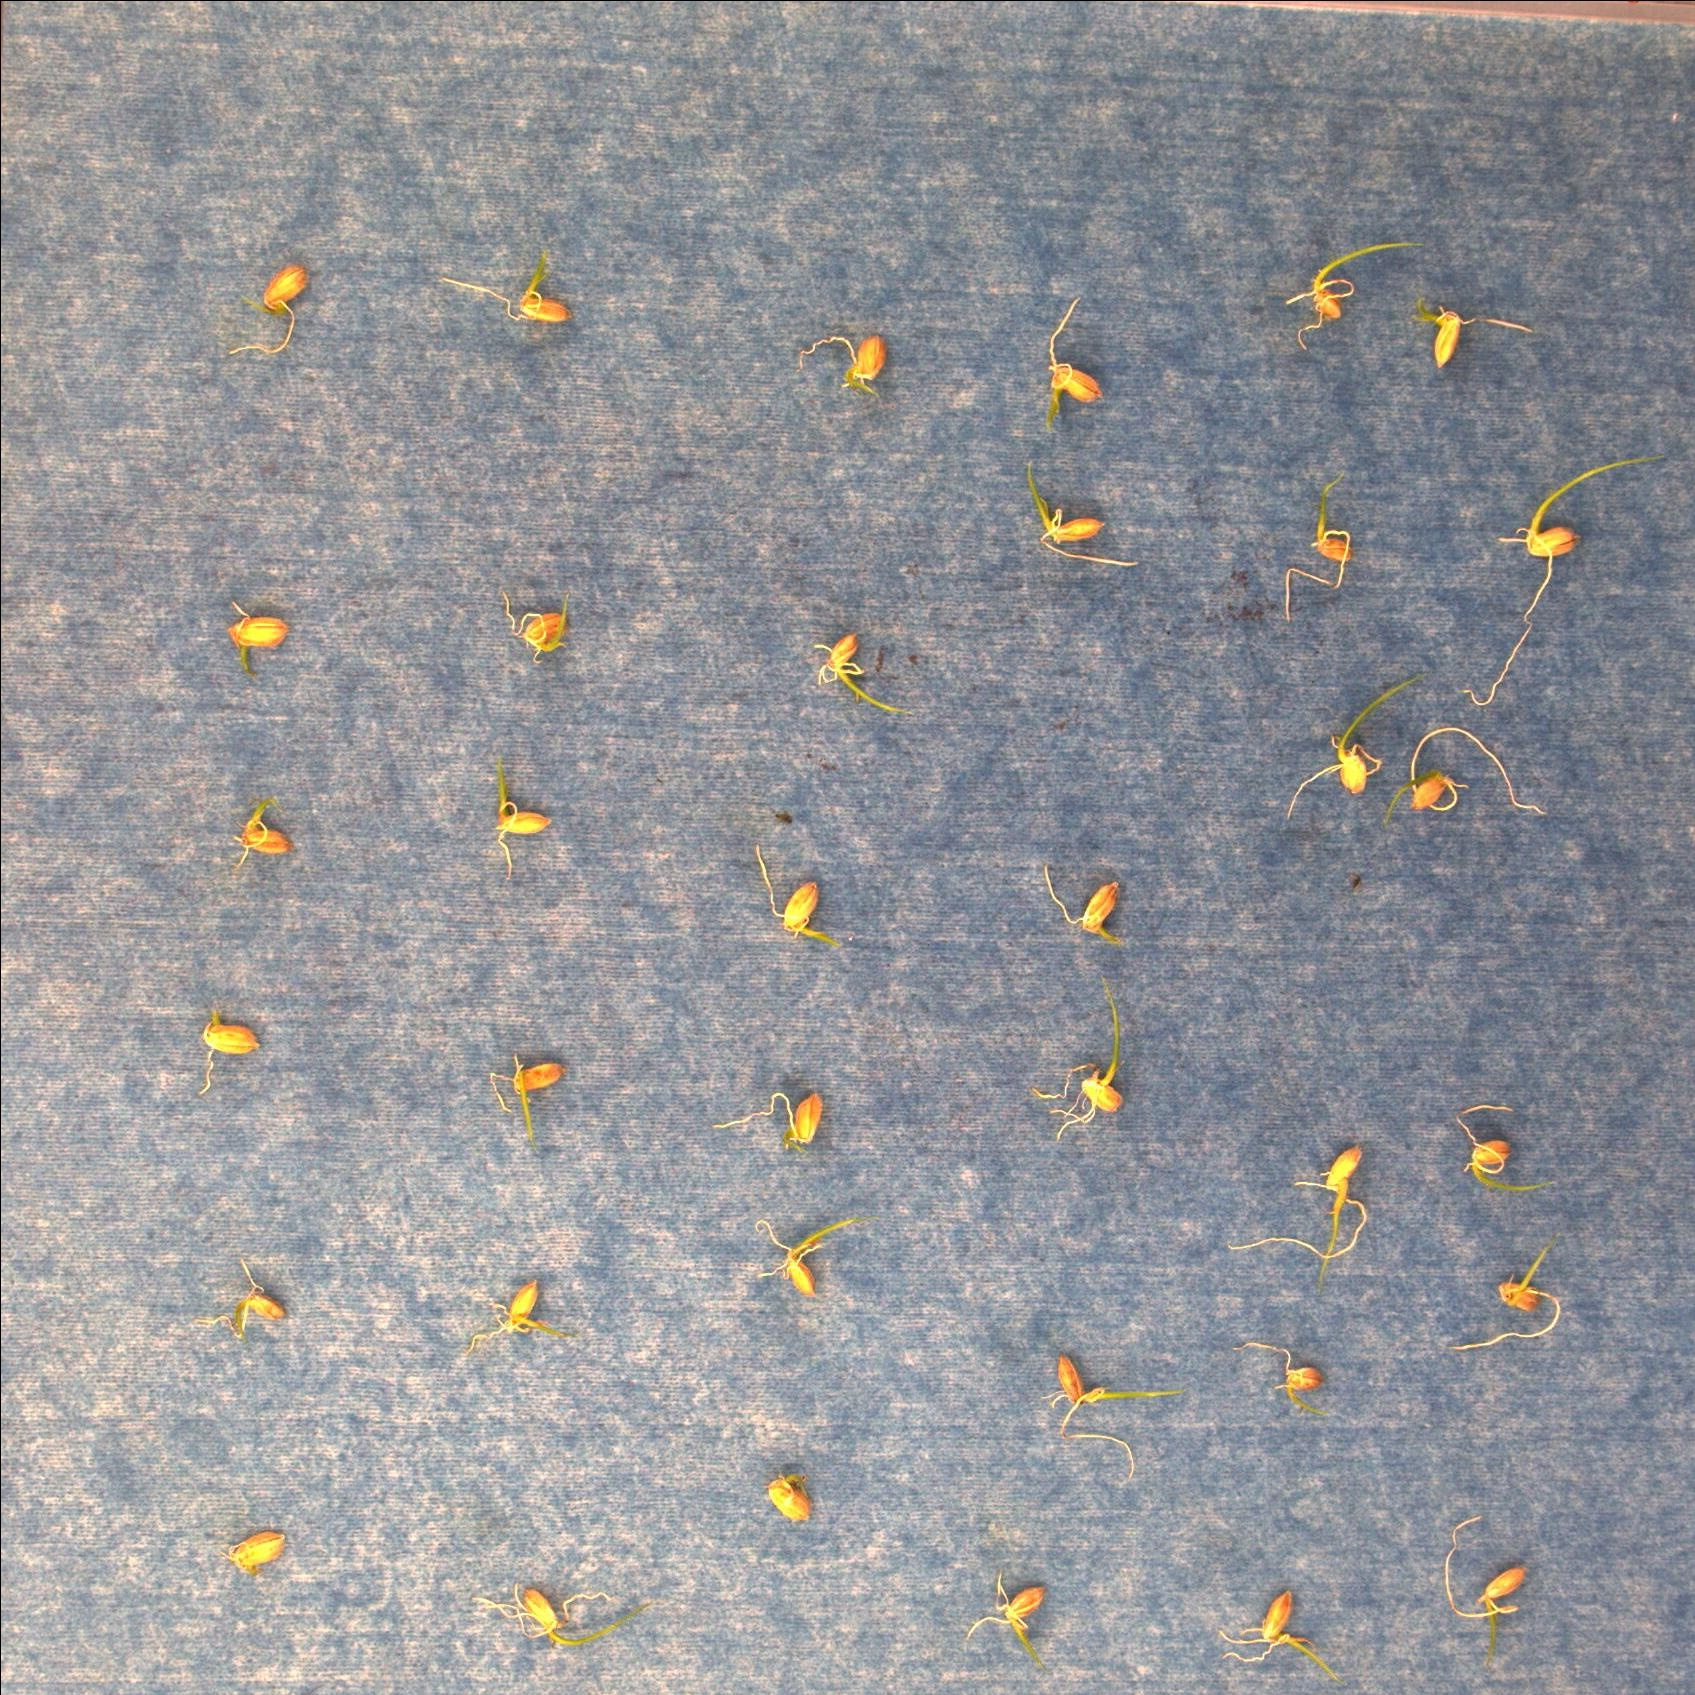not sprout: (1400, 722, 1557, 838), (1031, 854, 1142, 955), (224, 256, 309, 365), (709, 1080, 829, 1152), (784, 324, 889, 400), (188, 1001, 267, 1094), (211, 1260, 290, 1350), (213, 1520, 293, 1580), (757, 1475, 816, 1529)
sprout: (1461, 447, 1662, 709), (1270, 667, 1426, 820), (1220, 1141, 1371, 1285), (1037, 1350, 1183, 1490), (1006, 450, 1146, 588), (1028, 969, 1135, 1147), (1281, 230, 1422, 365), (1028, 286, 1125, 453), (1444, 1229, 1568, 1357), (1209, 1583, 1357, 1687), (1447, 1097, 1586, 1203), (442, 1569, 619, 1647), (1273, 473, 1360, 629), (792, 626, 931, 722), (1440, 1513, 1540, 1642), (740, 843, 847, 959), (955, 1569, 1063, 1679), (424, 259, 573, 337), (737, 1212, 861, 1302), (1405, 301, 1546, 374), (477, 1042, 577, 1141), (477, 761, 553, 889), (456, 1271, 567, 1349), (484, 587, 584, 669), (1234, 1341, 1336, 1420), (227, 795, 300, 875), (222, 588, 286, 677)
